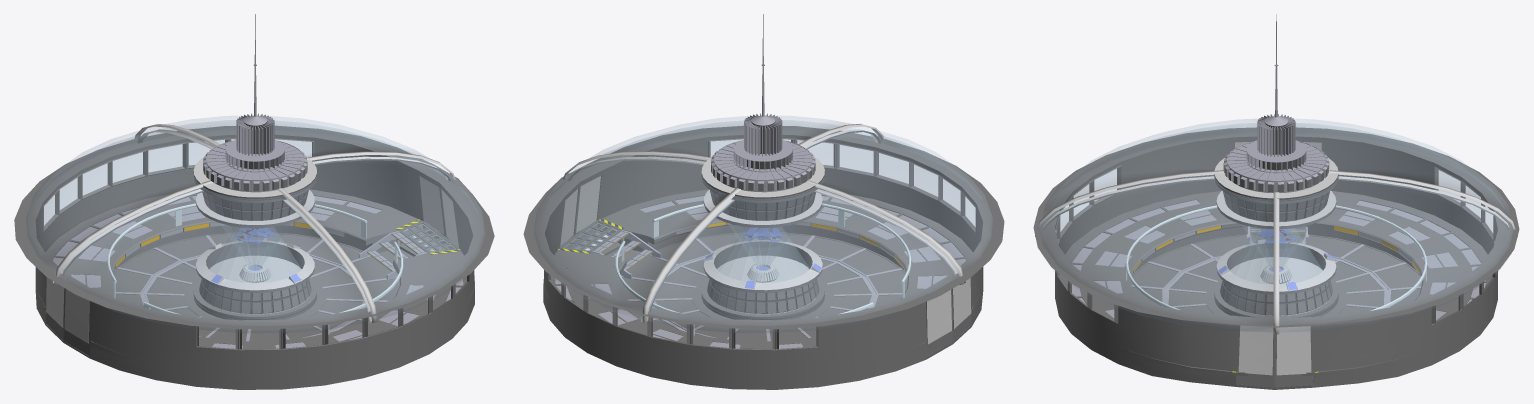
Rendered from SpaceStation_2.glb.
3 views of the same model, side by side, from view 1: azimuth 30°, elevation 25°; view 2: azimuth 150°, elevation 25°; view 3: azimuth 270°, elevation 25° (orthographic).
Visible parts, largest first — view 1: Bridge; view 2: Bridge; view 3: Bridge.
Part boxes in pixels (x1,y1,x2,y2): Bridge: [14, 14, 494, 389]; Bridge: [523, 14, 1004, 389]; Bridge: [1033, 14, 1519, 389].
Bounding box in the file's own units: 3 × 2.01 × 3.07.
